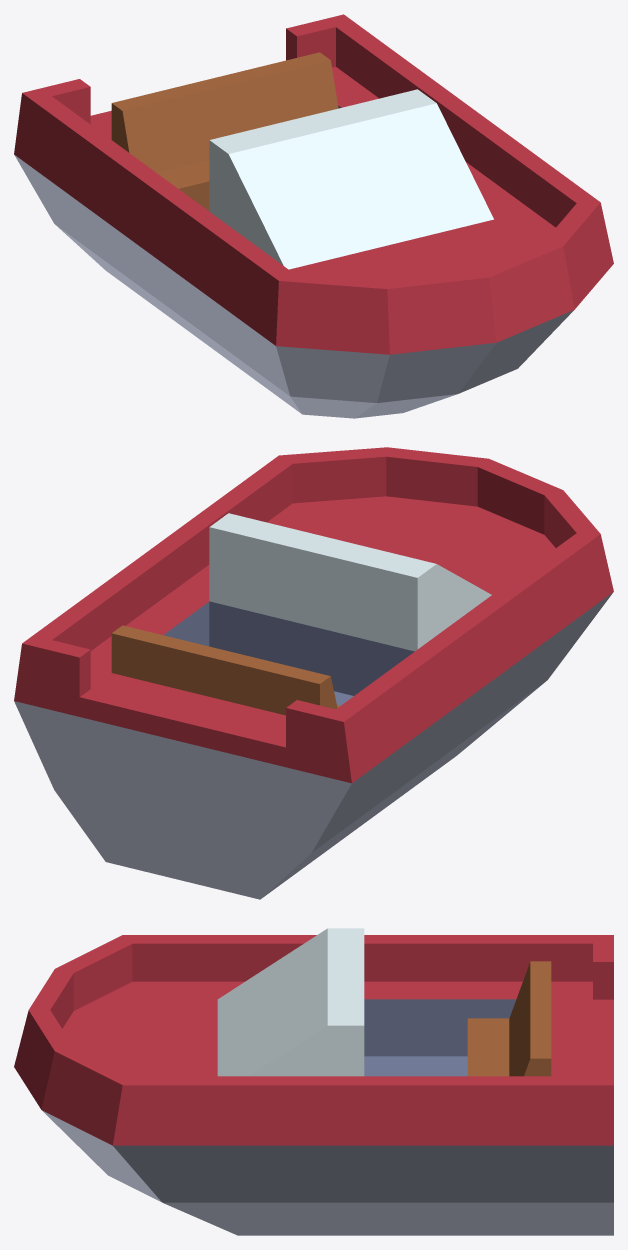
Rendered from boat.glb.
3 renders of one model, top to bottom at view 1: azimuth 30°, elevation 25°; view 2: azimuth 150°, elevation 25°; view 3: azimuth 270°, elevation 25°, orthographic. The views are drawn at different scales.
Visible parts, largest first — view 1: boat; view 2: boat; view 3: boat.
Boxes of the visible parts, <box> form: boat: <box>14,14,613,418</box>; boat: <box>14,447,613,899</box>; boat: <box>14,928,613,1235</box>.
Bounding box in the file's own units: 1.07 × 0.7048 × 1.72.
